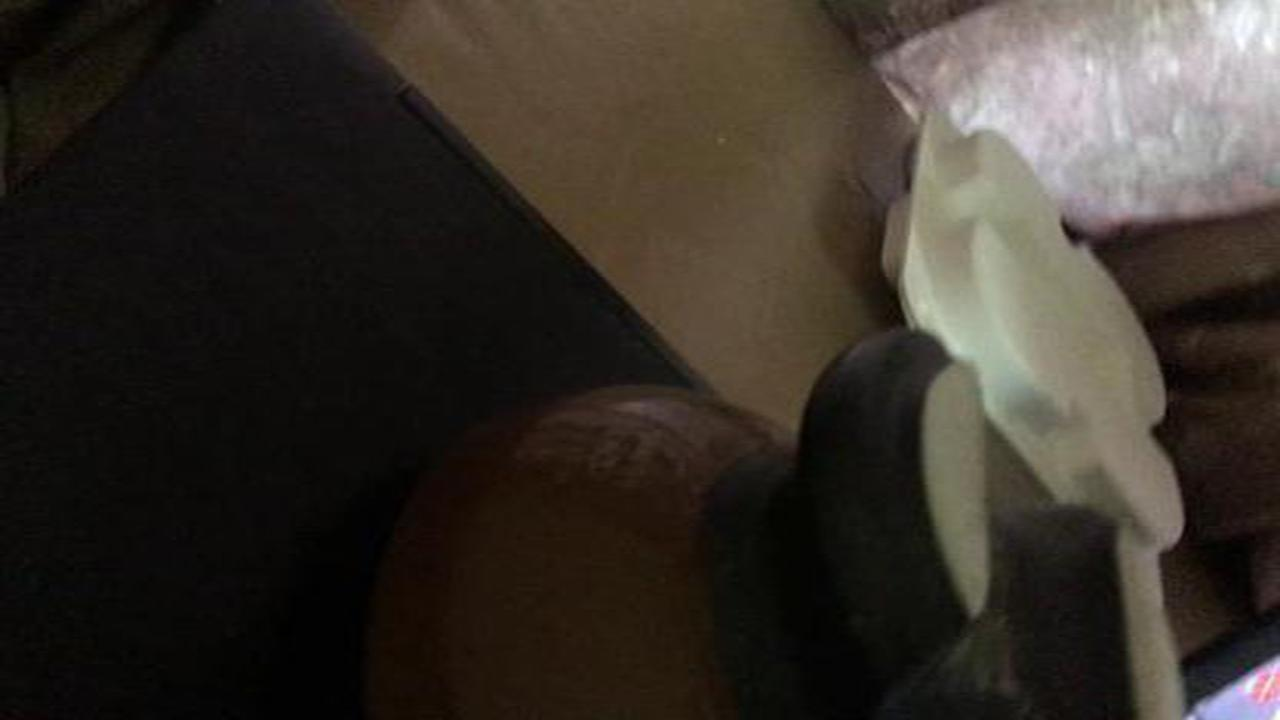insulator_pin: (333, 316, 1207, 710)
